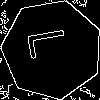L: (27, 24, 78, 61)
